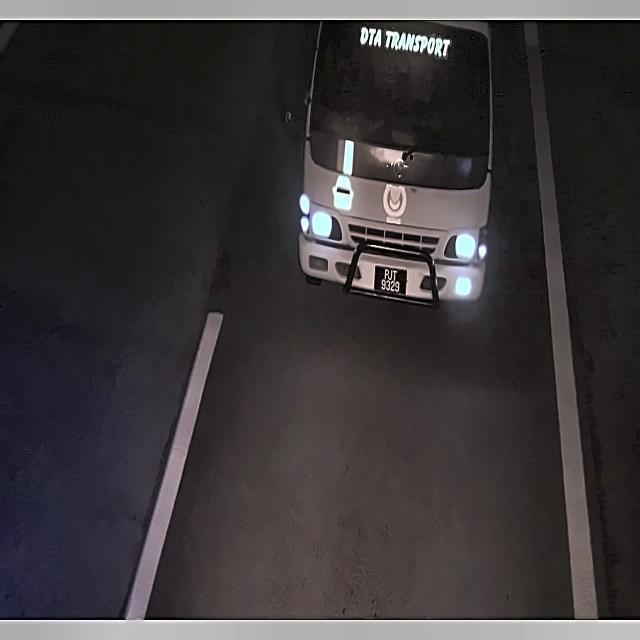car: (369, 257, 418, 303)
